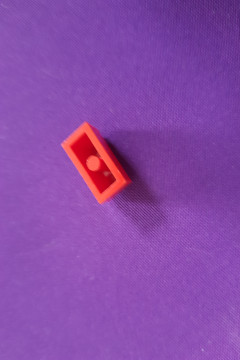1x2 red: (59, 120, 133, 205)
